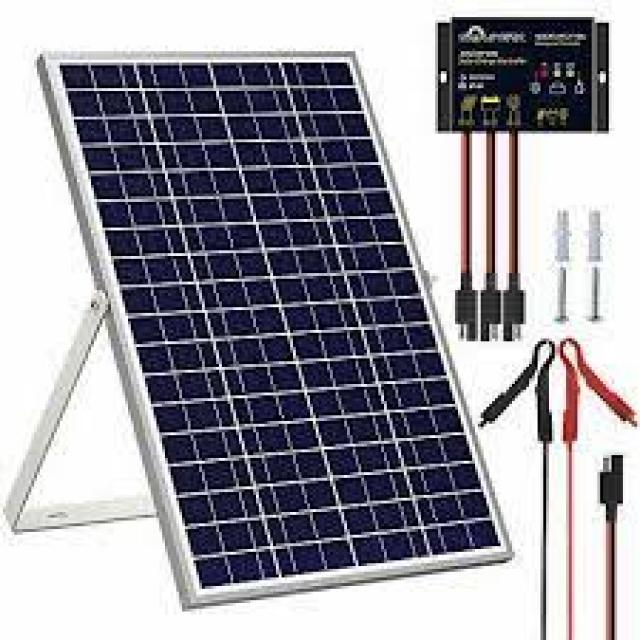no faulty: (51, 58, 503, 586)
